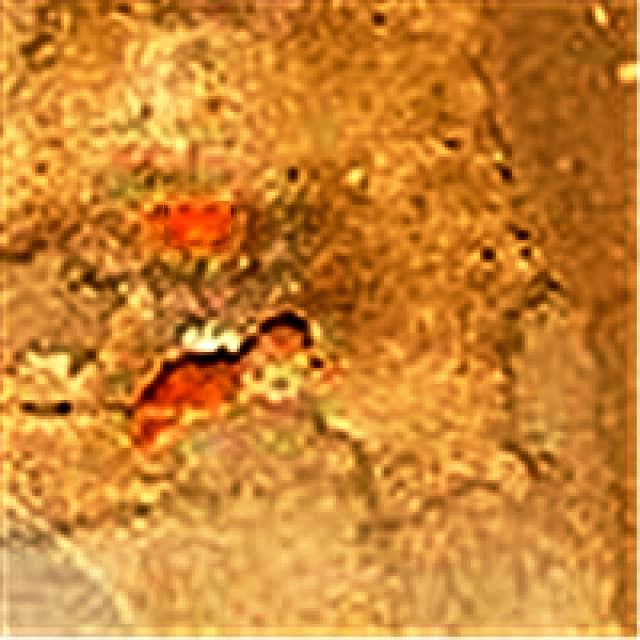Corrosion: (133, 337, 257, 447), (147, 198, 233, 248), (255, 305, 312, 356)
